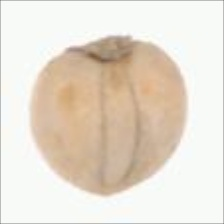L5: (99, 55, 139, 194), (65, 33, 146, 62), (79, 180, 145, 196)
L6: (30, 34, 189, 196)
